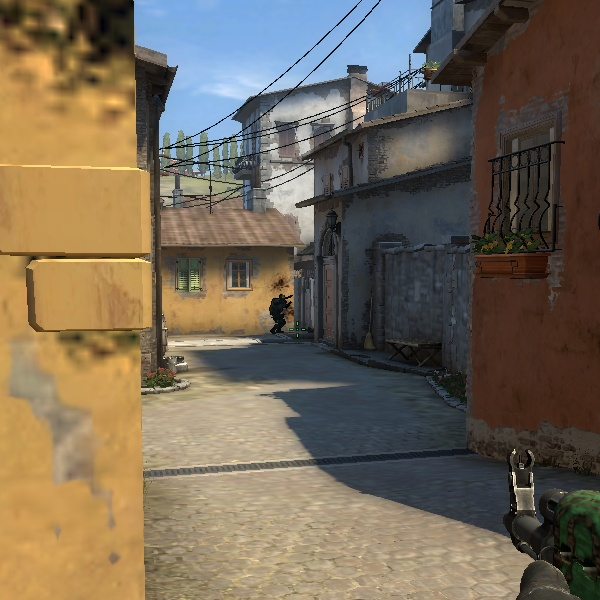ct_body: (266, 288, 292, 333)
